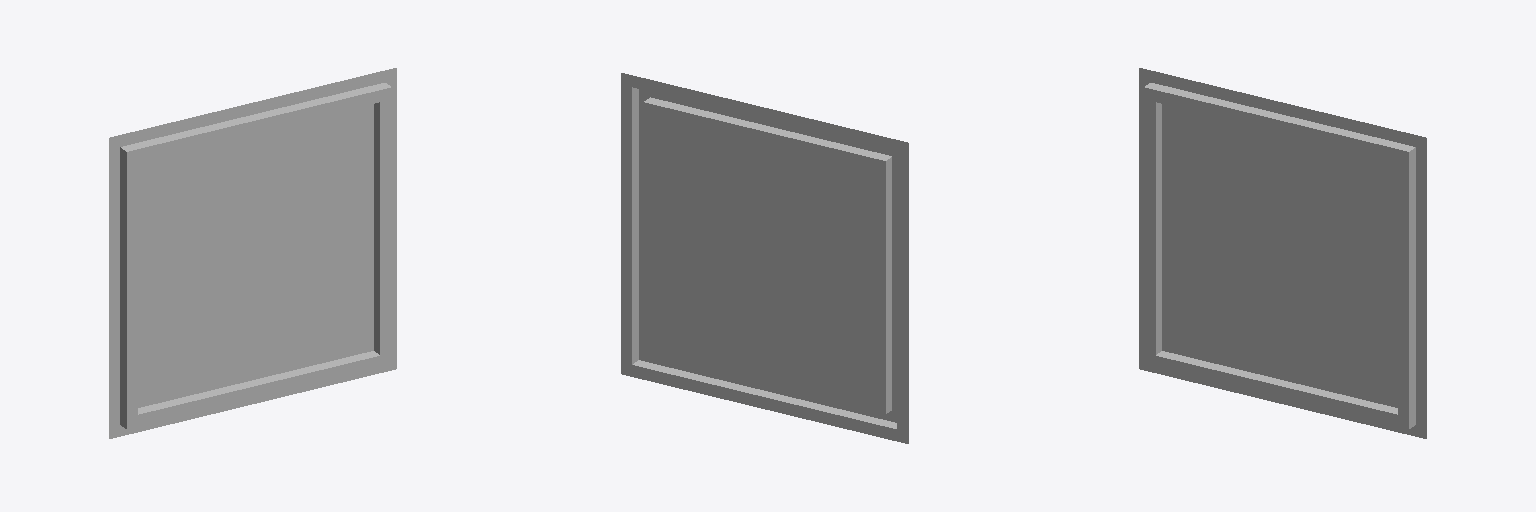
File: TMP_Window.obj
3 renders of one model, left to right at view 1: azimuth 30°, elevation 25°; view 2: azimuth 150°, elevation 25°; view 3: azimuth 330°, elevation 25°, orthographic.
Visible parts, largest first — view 1: Cube; view 2: Cube; view 3: Cube.
Part boxes in pixels (x1,y1,x2,y2): Cube: (109, 68, 396, 438); Cube: (621, 73, 908, 443); Cube: (1139, 68, 1426, 438).
Bounding box in the file's own units: 2.5 × 2.5 × 0.1.